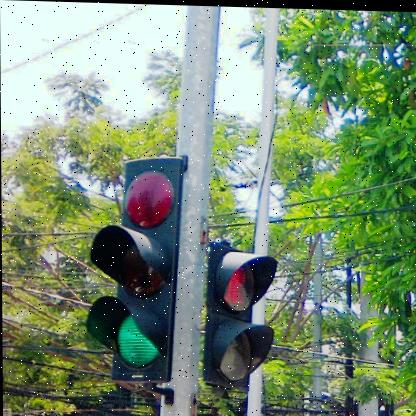Traffic Light -Green-: (85, 150, 186, 384)
